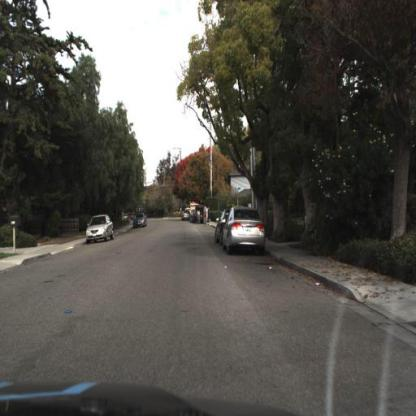car: (224, 202, 269, 262), (85, 212, 118, 252), (213, 204, 227, 253), (131, 210, 149, 232), (194, 206, 206, 226)
pedestrian: (198, 210, 202, 225), (209, 208, 212, 222), (207, 207, 209, 223)
